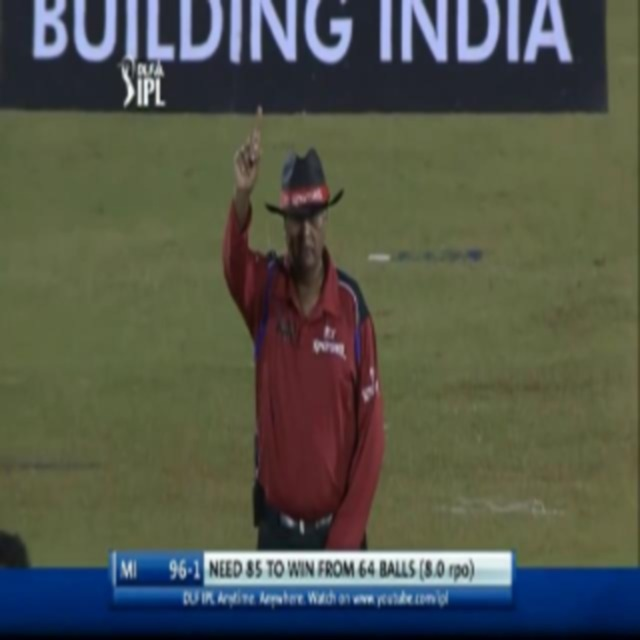Out: (217, 94, 392, 546)
